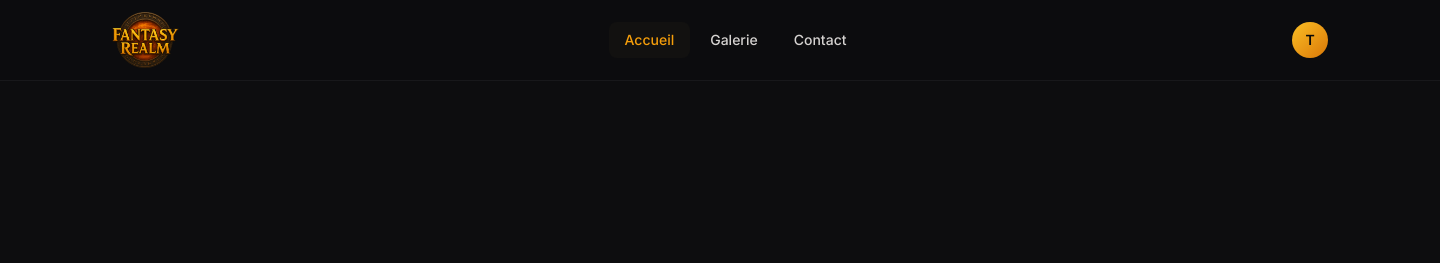
Test: Header › authenticated state › opens dropdown menu when avatar is clicked
Click the button named "Menu utilisateur": (1310, 40) left=1292, top=22, right=1328, bottom=58
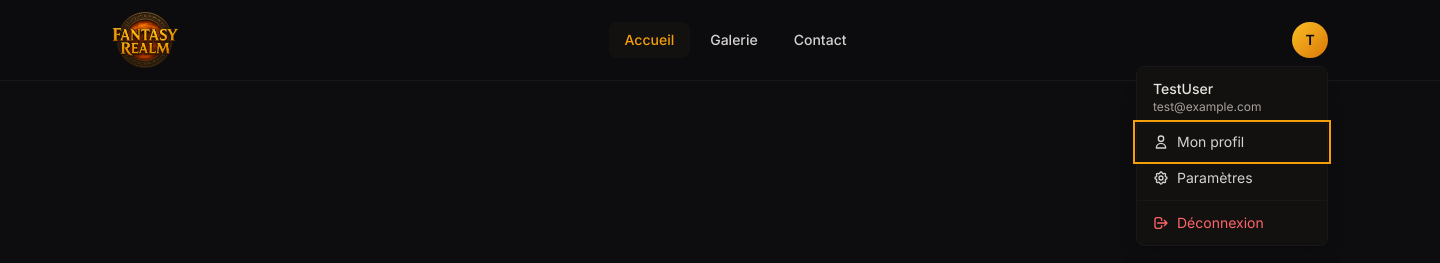
expect the menu item "Mon profil" is shown: met, box left=1153, top=133, right=1244, bottom=150
expect the menu item "Paramètres" is shown: met, box left=1153, top=169, right=1252, bottom=186
expect the menu item "Déconnexion" is shown: met, box left=1137, top=205, right=1327, bottom=241
